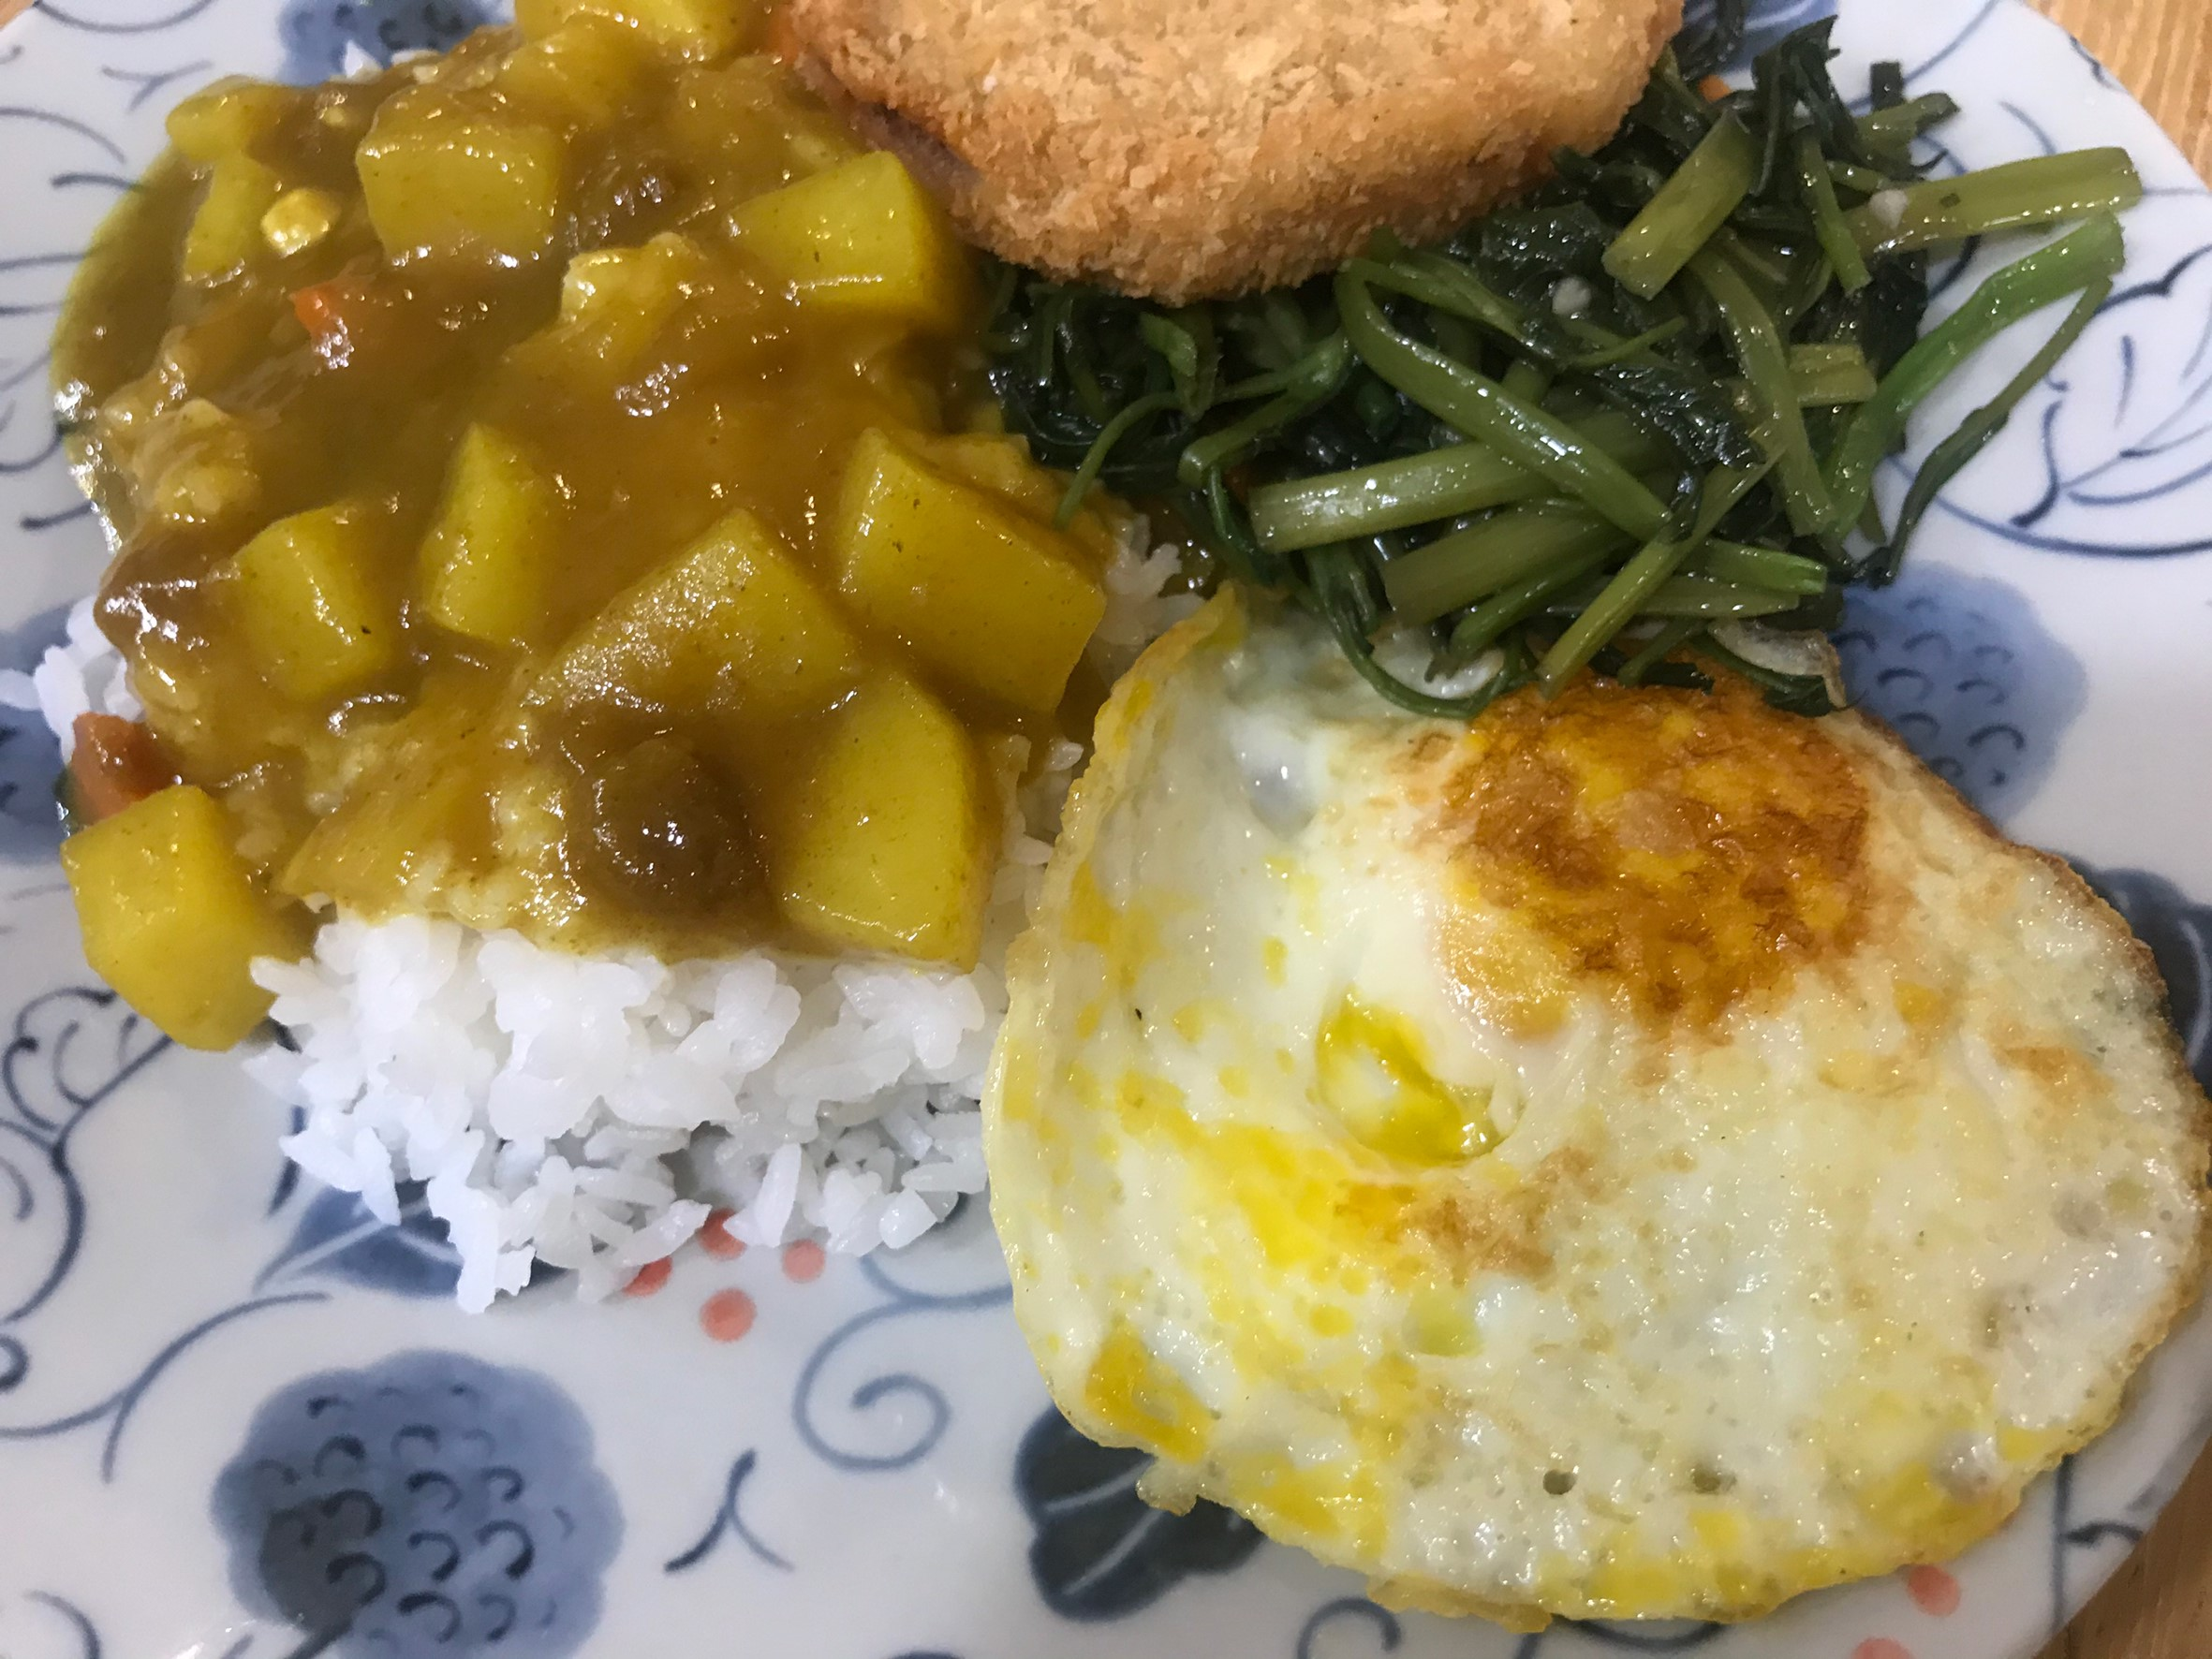curry: (64, 2, 1028, 943)
fried_eggs: (1002, 589, 2179, 1607)
rice: (286, 913, 994, 1314)
water_spinach: (1088, 31, 2066, 608)
